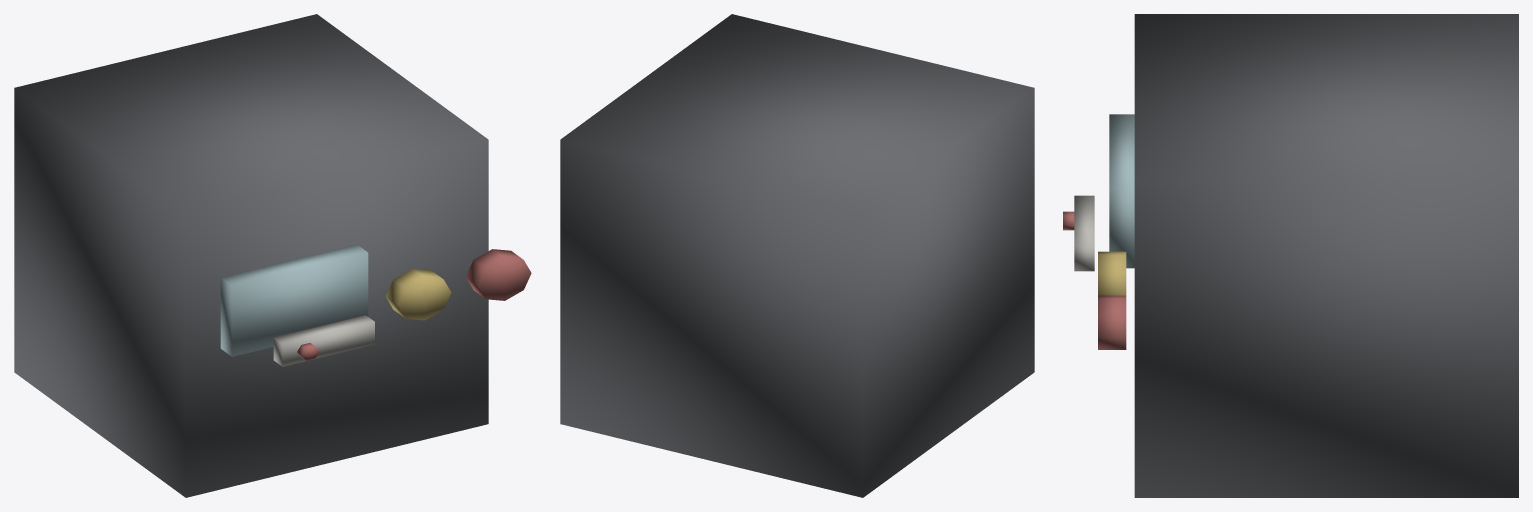
File: multimeter_station__squat.glb
3 renders of one model, left to right at view 1: azimuth 30°, elevation 25°; view 2: azimuth 150°, elevation 25°; view 3: azimuth 270°, elevation 25°, orthographic. The views are drawn at different scales.
Parts seen in each view (by area): view 1: world; view 2: world; view 3: world.
Part boxes in pixels (<box>): world: <box>14,14,531,497</box>; world: <box>560,14,1034,497</box>; world: <box>1063,14,1518,497</box>.
Size of the model in its own units: 0.407 by 0.336 by 0.4358.
